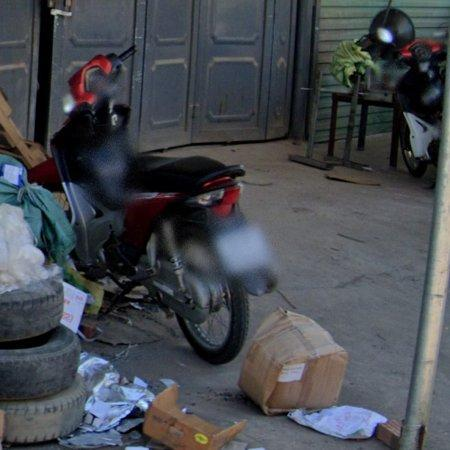motorcycles: (51, 47, 277, 364)
